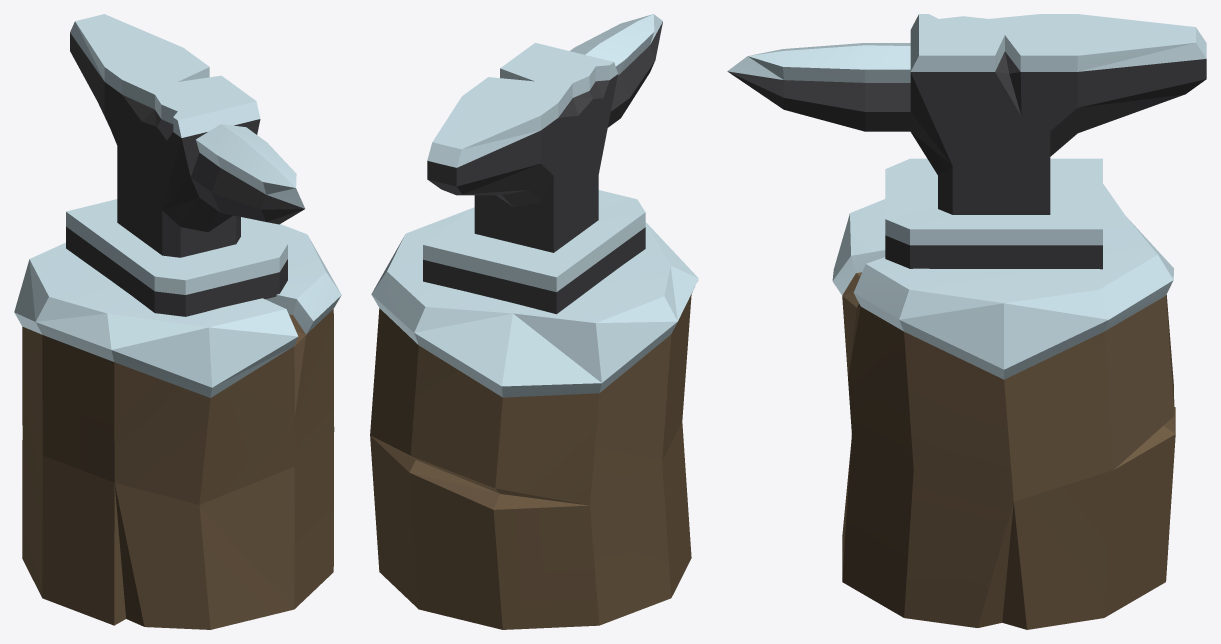
File: Yunque_Tronco.glb
3 renders of one model, left to right at view 1: azimuth 30°, elevation 25°; view 2: azimuth 150°, elevation 25°; view 3: azimuth 270°, elevation 25°, orthographic. The views are drawn at different scales.
Parts seen in each view (by area): view 1: SM_Prop_Anvil_Stump_01_Snow, SM_Prop_Anvil_01_Snow; view 2: SM_Prop_Anvil_Stump_01_Snow, SM_Prop_Anvil_01_Snow; view 3: SM_Prop_Anvil_Stump_01_Snow, SM_Prop_Anvil_01_Snow.
Part boxes in pixels (x1,y1,x2,y2): SM_Prop_Anvil_Stump_01_Snow: [14, 220, 341, 629]; SM_Prop_Anvil_01_Snow: [66, 14, 305, 316]; SM_Prop_Anvil_Stump_01_Snow: [370, 207, 698, 629]; SM_Prop_Anvil_01_Snow: [423, 14, 662, 314]; SM_Prop_Anvil_Stump_01_Snow: [832, 184, 1175, 629]; SM_Prop_Anvil_01_Snow: [727, 14, 1206, 269].
Bounding box in the file's own units: 0.7184 × 1.16 × 0.9621.
Materials: 2 (2 with a texture image).
